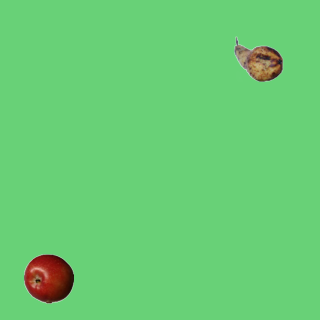Apple Braeburn: (23, 253, 73, 303)
Pear Abate: (233, 34, 283, 84)
